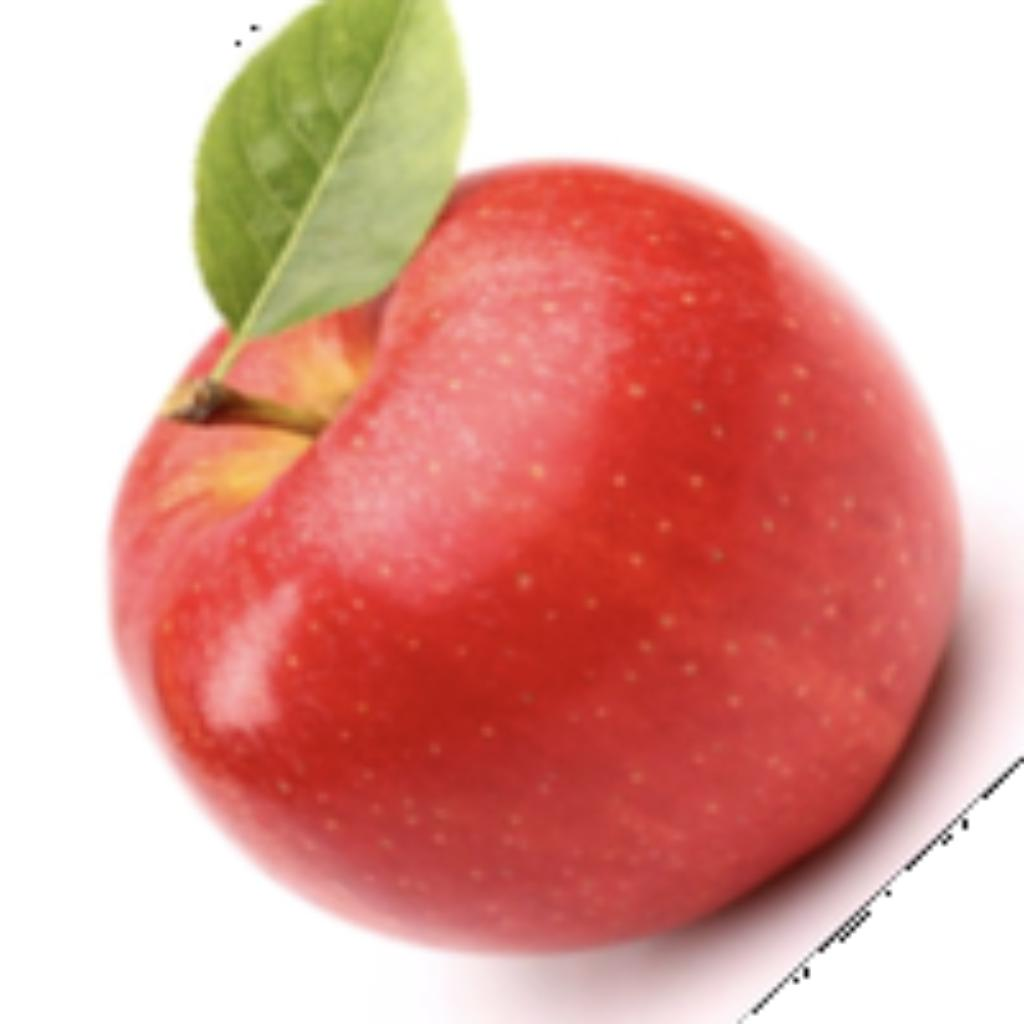apple: (97, 0, 1019, 1019)
